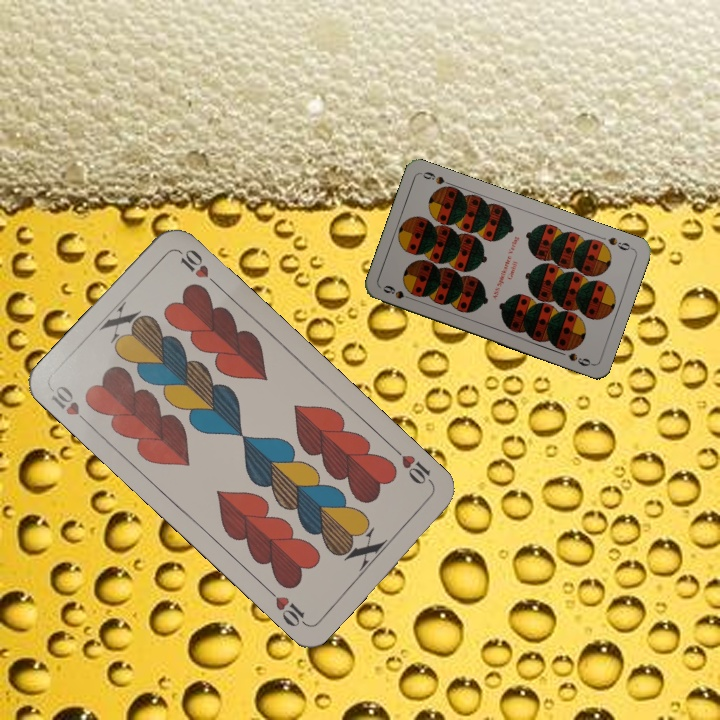H10: (46, 381, 95, 430), (389, 443, 436, 488)
S9: (379, 281, 417, 304), (604, 233, 636, 253)
